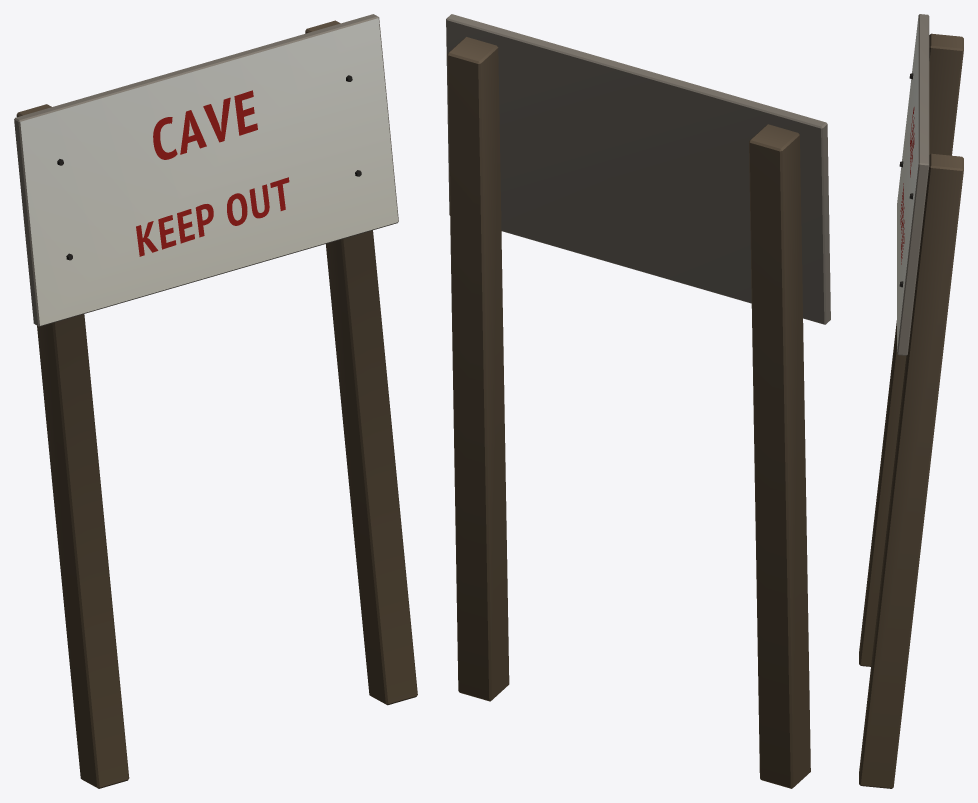
Rendered from cave_warning_board.glb.
The picture shows the model from 3 angles, left to right: view 1: azimuth 30°, elevation 25°; view 2: azimuth 150°, elevation 25°; view 3: azimuth 270°, elevation 25°; orthographic projection. The views are drawn at different scales.
Parts seen in each view (by area): view 1: cave_warning_board_LOD0; view 2: cave_warning_board_LOD0; view 3: cave_warning_board_LOD0.
Boxes of the visible parts, box(x1,y1,x2,y2) form: cave_warning_board_LOD0: box(14, 14, 417, 788); cave_warning_board_LOD0: box(446, 14, 830, 788); cave_warning_board_LOD0: box(859, 14, 963, 788).
Size of what is drawn, in the model's own units: 0.9198 by 1.61 by 0.2407.
